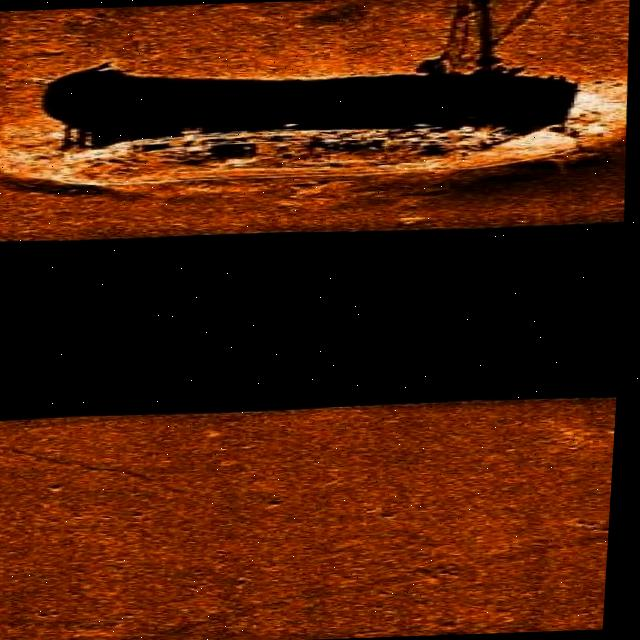shipwreck: (56, 118, 606, 190)
